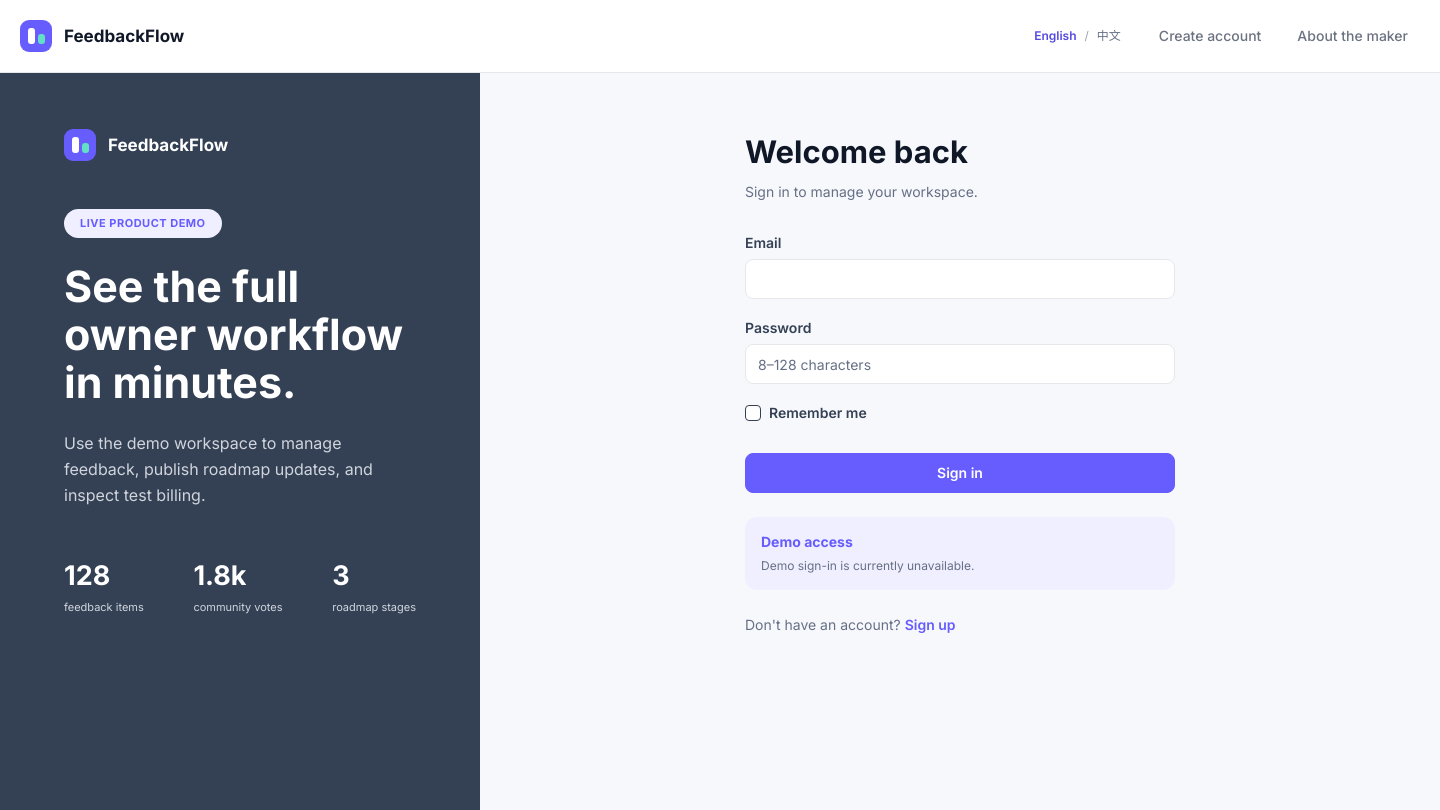
Scenario: LoginPage › links validation errors to invalid fields
The image size is (1440, 810).
Clear the field labelled "Email" at (960, 279), box [745, 259, 1175, 299]
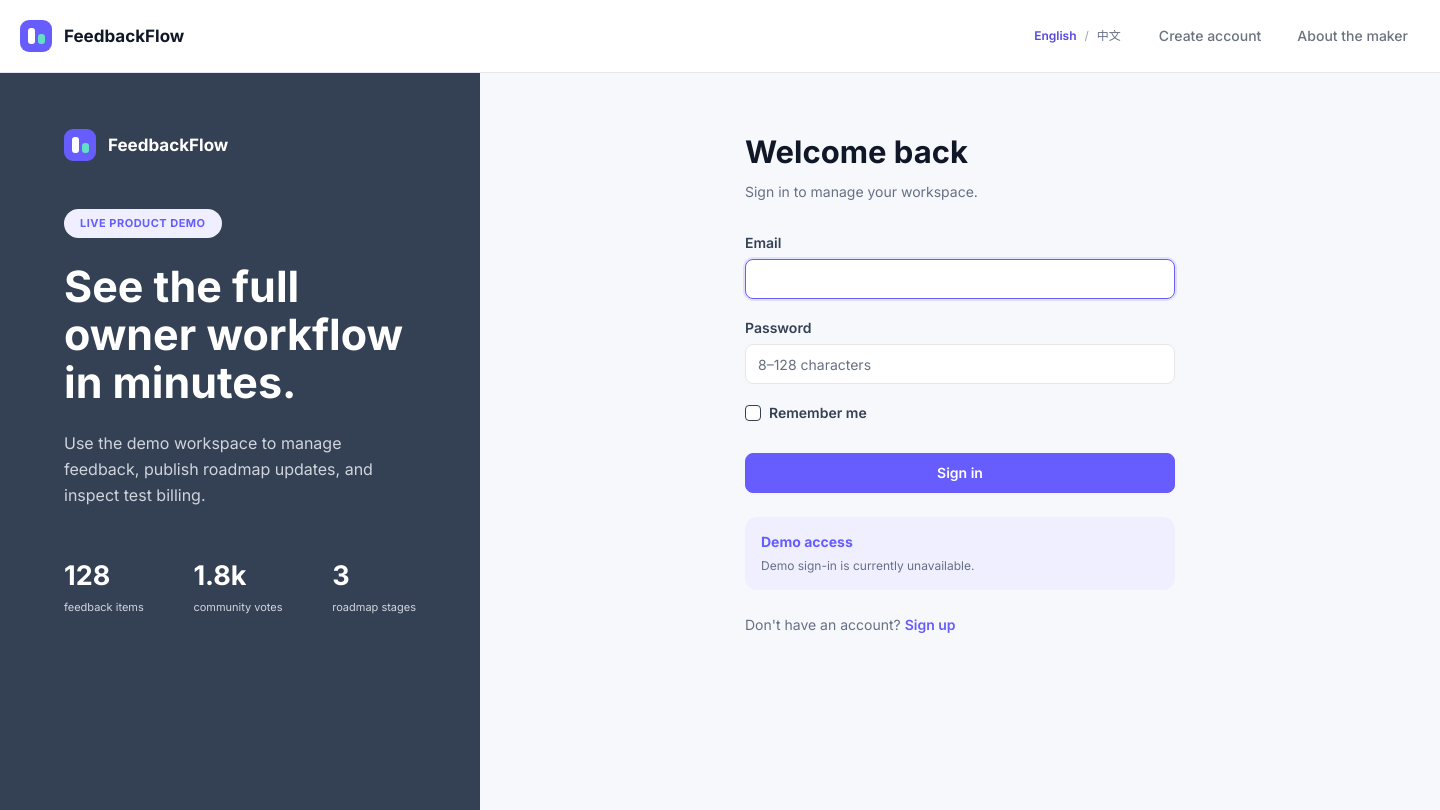
Click the button "Sign in".
click(960, 473)  # box [745, 453, 1175, 493]
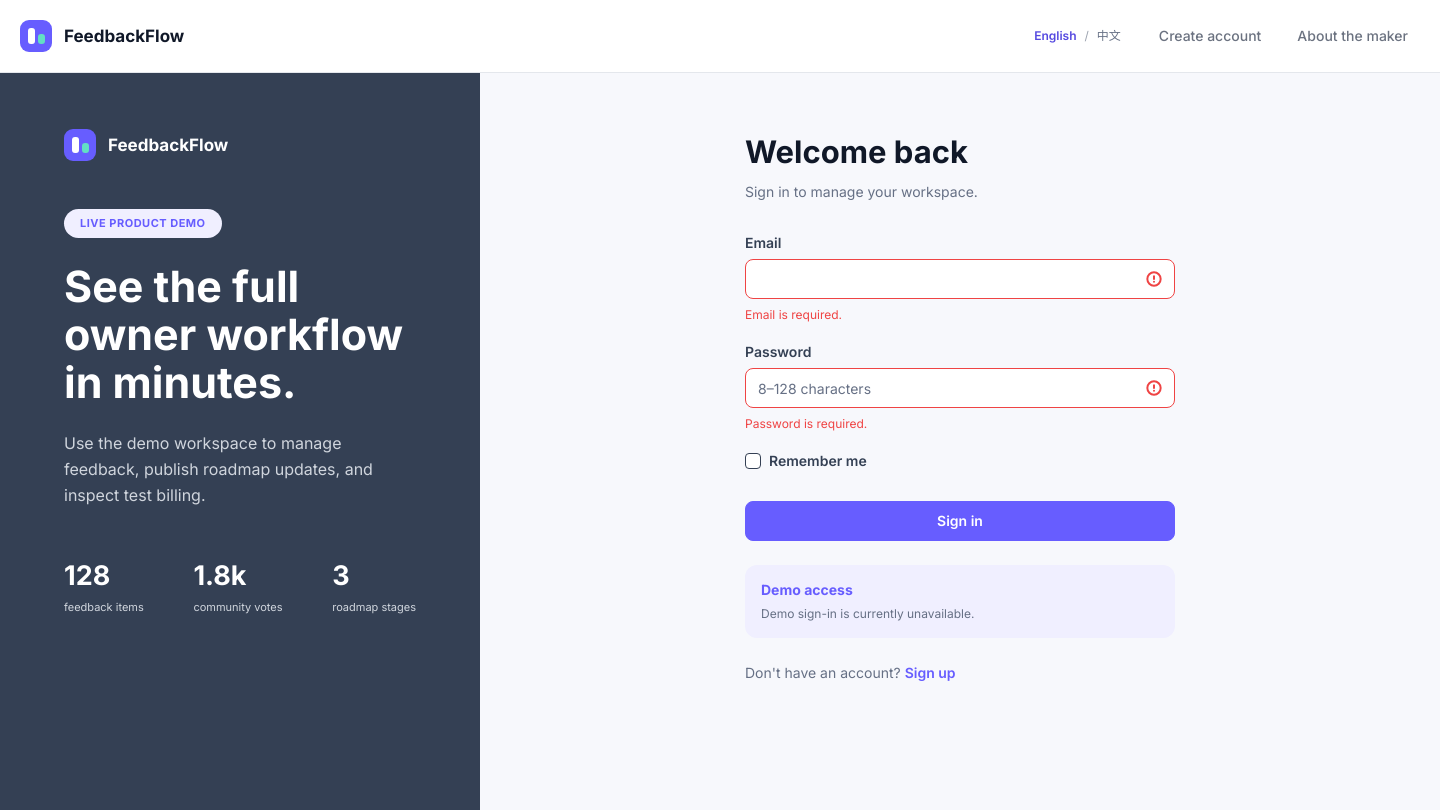
Now the text "Email is required." is shown, box [745, 307, 842, 322]
